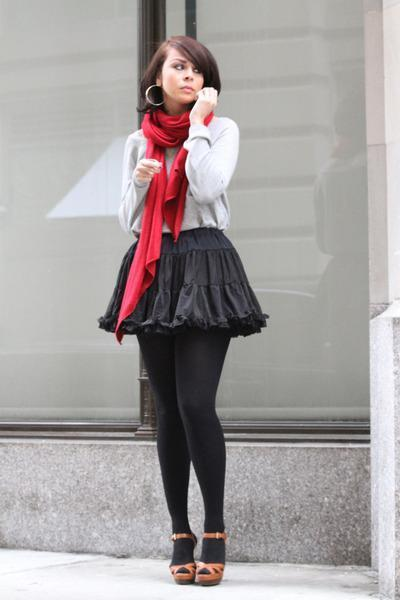shirt: (107, 117, 238, 247)
shoe: (153, 529, 240, 586)
skirt: (99, 227, 268, 354)
